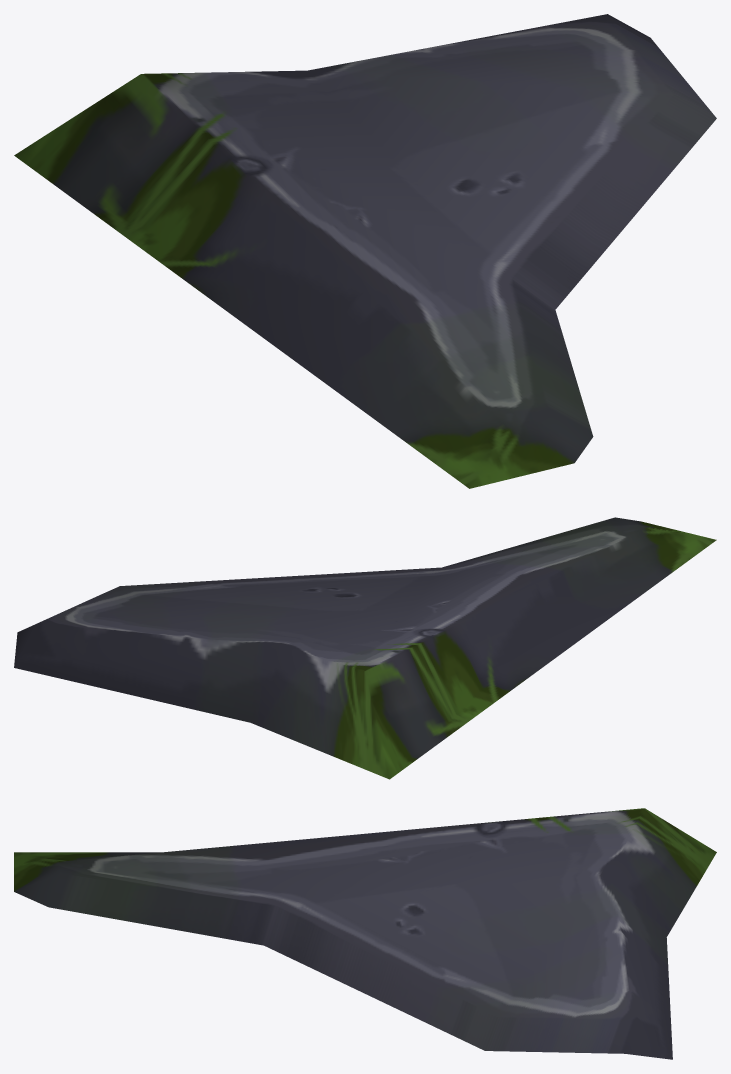
File: MOD_Floor_01_O_singlestone_broken_5.fbx
3 renders of one model, top to bottom at view 1: azimuth 30°, elevation 25°; view 2: azimuth 150°, elevation 25°; view 3: azimuth 270°, elevation 25°, orthographic. The views are drawn at different scales.
Parts seen in each view (by area): view 1: MOD_Floor_01_O_singlestone_broken_5; view 2: MOD_Floor_01_O_singlestone_broken_5; view 3: MOD_Floor_01_O_singlestone_broken_5.
Part boxes in pixels (box(x1,y1,x2,y2)): MOD_Floor_01_O_singlestone_broken_5: box(14, 14, 716, 488); MOD_Floor_01_O_singlestone_broken_5: box(14, 517, 716, 779); MOD_Floor_01_O_singlestone_broken_5: box(14, 808, 716, 1059).
Size of the model in its own units: 73.17 by 11.67 by 100.
